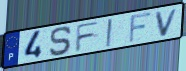4: (23, 29, 46, 61)
F: (74, 19, 101, 53), (127, 10, 153, 44)
I: (105, 17, 113, 49)
S: (48, 25, 73, 57)
V: (154, 7, 180, 38)
